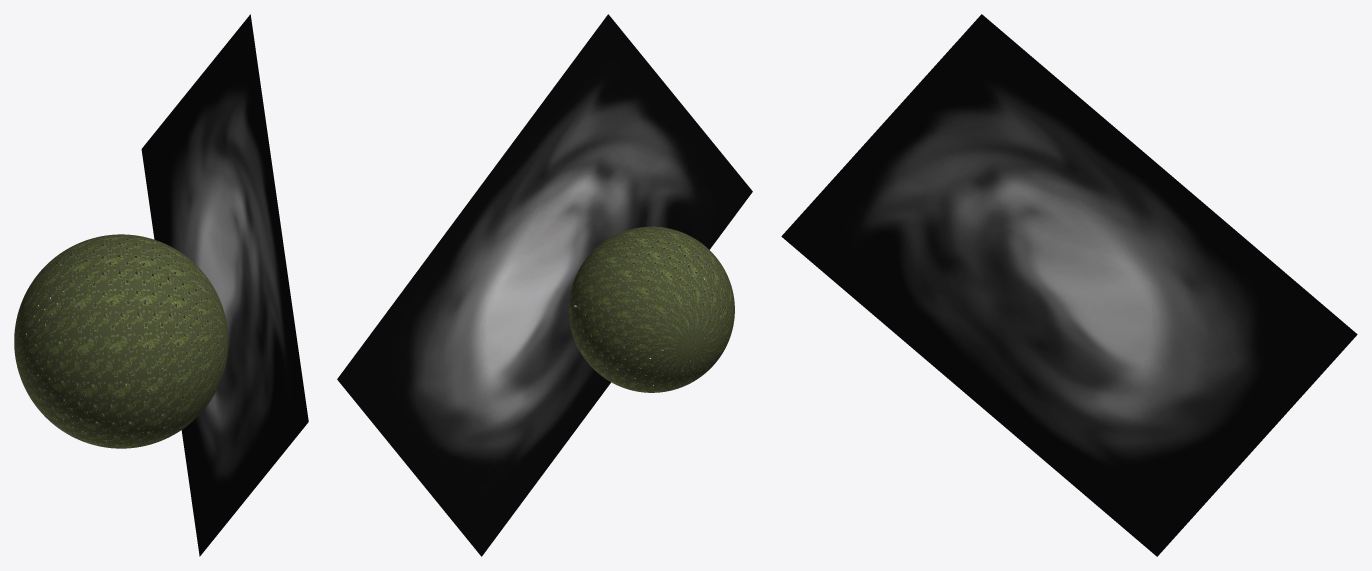
File: Set 3 - Space, Small Planet.fbx
3 renders of one model, left to right at view 1: azimuth 30°, elevation 25°; view 2: azimuth 150°, elevation 25°; view 3: azimuth 270°, elevation 25°, orthographic. The views are drawn at different scales.
Parts seen in each view (by area): view 1: Backdrop, CutscenePlanet; view 2: Backdrop, CutscenePlanet; view 3: Backdrop.
Part boxes in pixels (x1,y1,x2,y2): Backdrop: [141, 14, 308, 556]; CutscenePlanet: [14, 234, 228, 448]; Backdrop: [337, 14, 752, 556]; CutscenePlanet: [568, 226, 734, 392]; Backdrop: [781, 14, 1357, 556].
Size of the model in its own units: 3739 by 7422 by 7450.
Materials: 3 (2 with a texture image).
